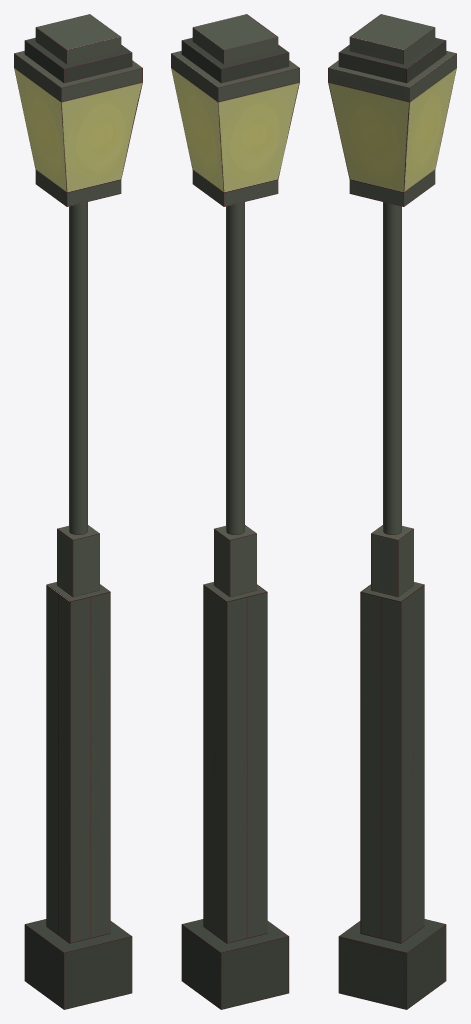
Rendered from Dream_Slamp.fbx.
3 renders of one model, left to right at view 1: azimuth 30°, elevation 25°; view 2: azimuth 210°, elevation 25°; view 3: azimuth 330°, elevation 25°, orthographic.
Parts seen in each view (by area): view 1: Box001, Box004; view 2: Box001, Box004; view 3: Box001, Box004.
Part boxes in pixels (x1,y1,x2,y2): Box001: (24,202,132,1009); Box004: (14,14,142,206); Box001: (181,202,289,1009); Box004: (171,14,299,206); Box001: (338,202,446,1009); Box004: (328,14,456,206).
Size of the model in its own units: 60 by 670 by 60.
2 materials, 2 textured.
